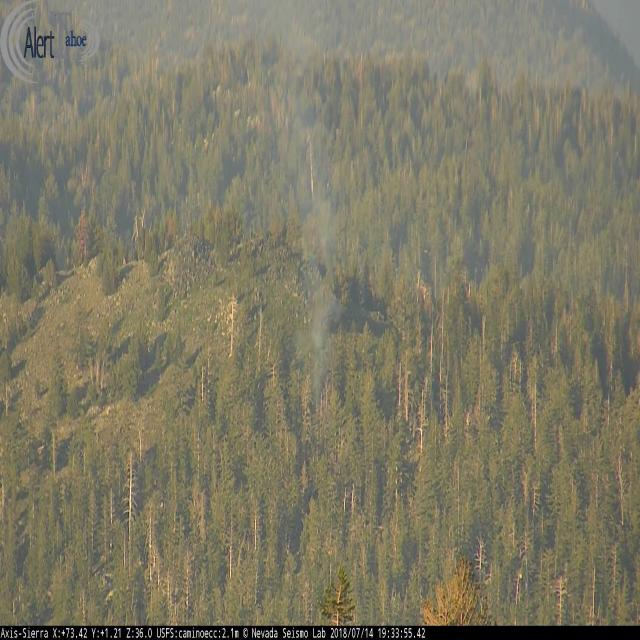smoke: (268, 25, 343, 402)
